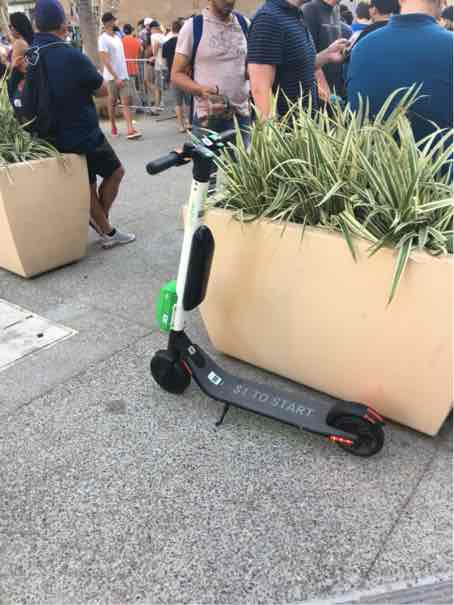scooter: (139, 118, 393, 473)
